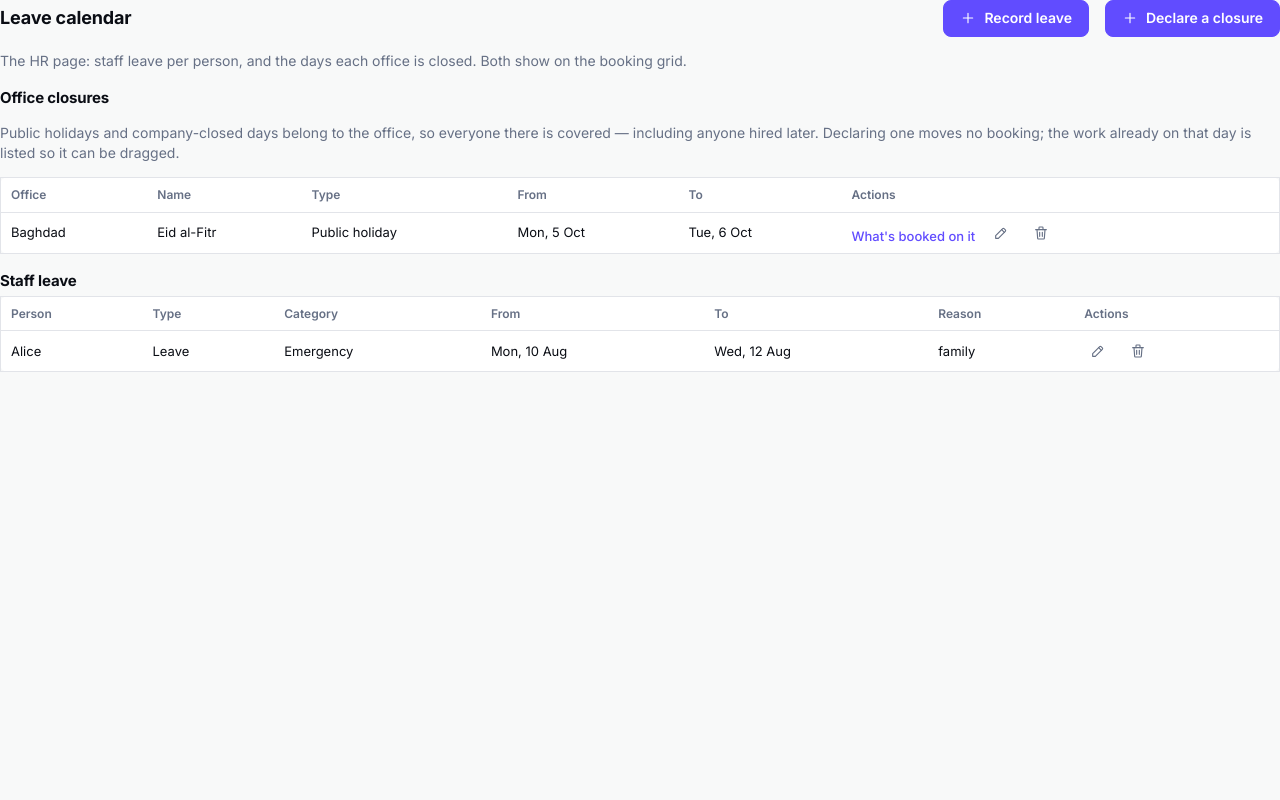
Test: LeavePage — office closures (ADR-0079) › refuses a closure with no name
This screenshot has width=1280, height=800.
Click the button with test id "closure-add" at point(1192, 18), box [1105,0,1279,37]
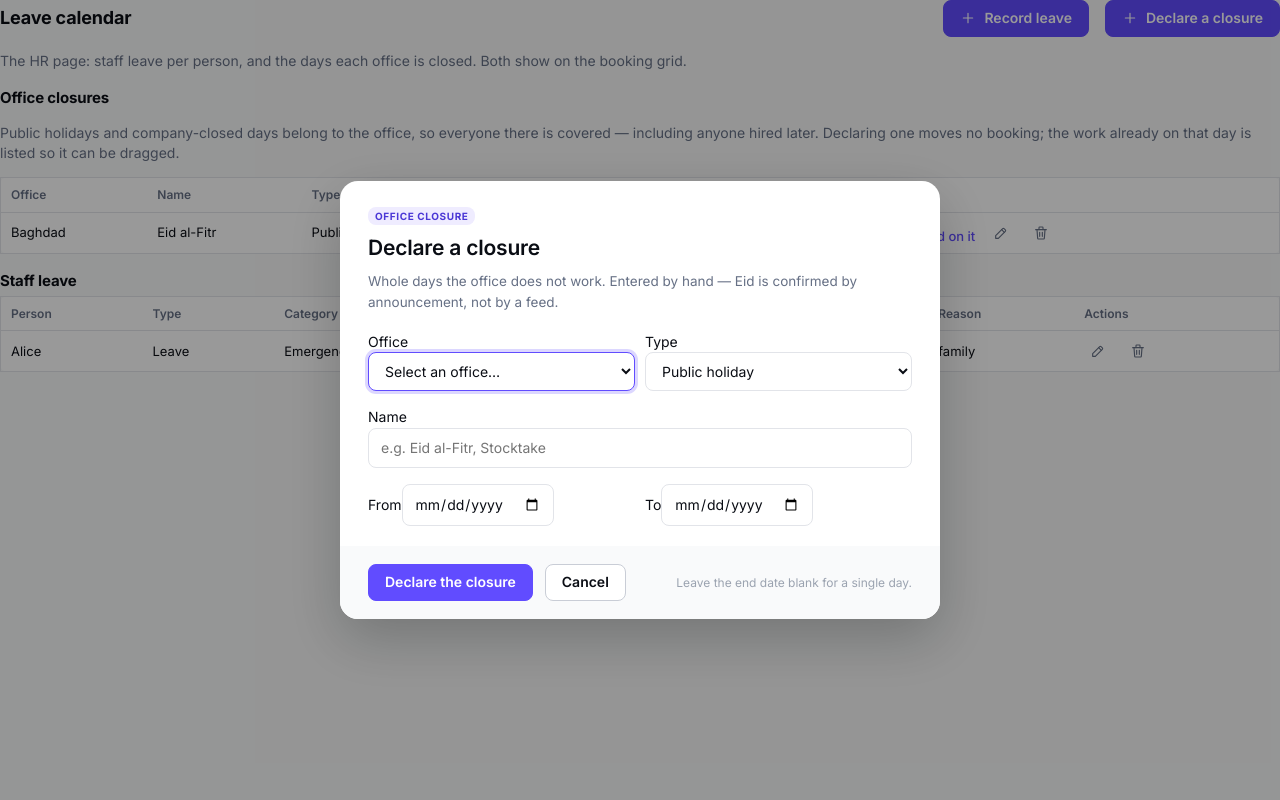
Select "Baghdad" in the dropdown with test id "closure-office" at point(502, 372), box [368,352,635,391]
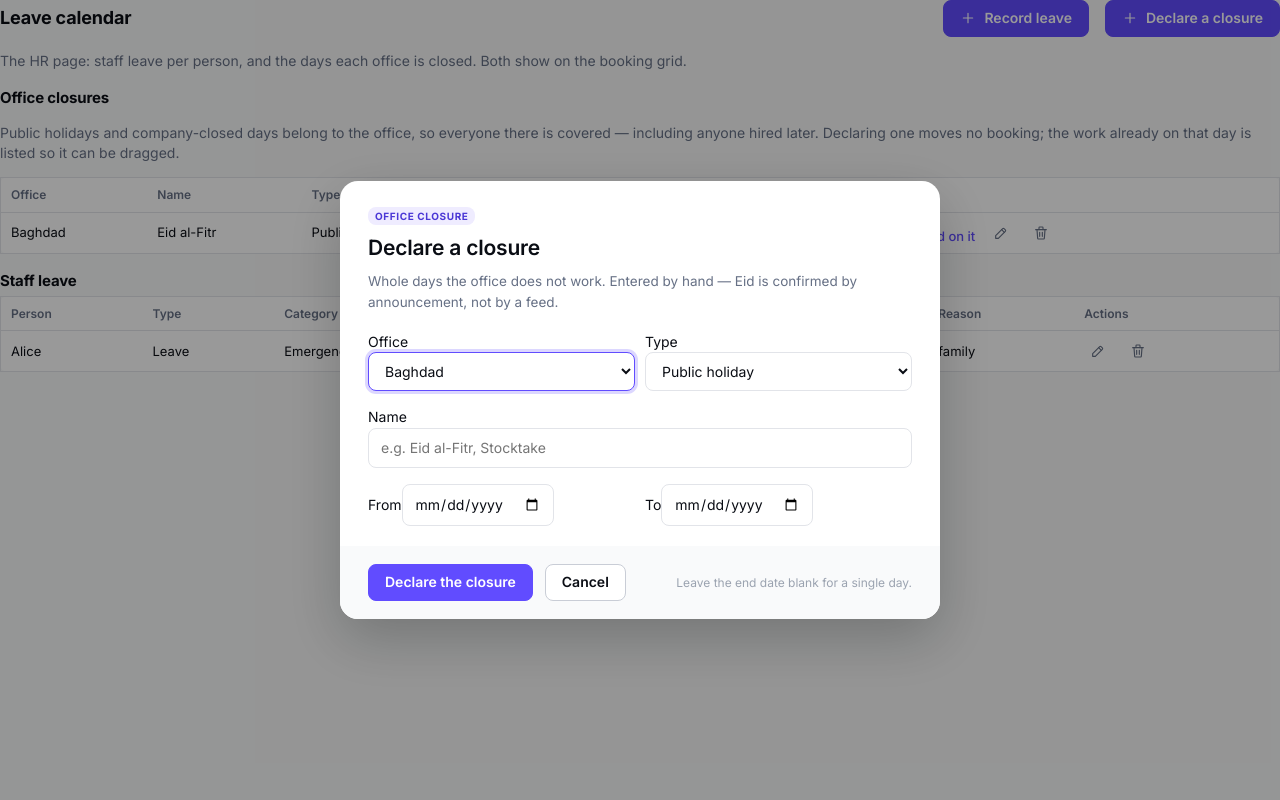
Type "2026-11-01" into the date field with test id "closure-start" at point(478, 505), box [402,484,554,526]
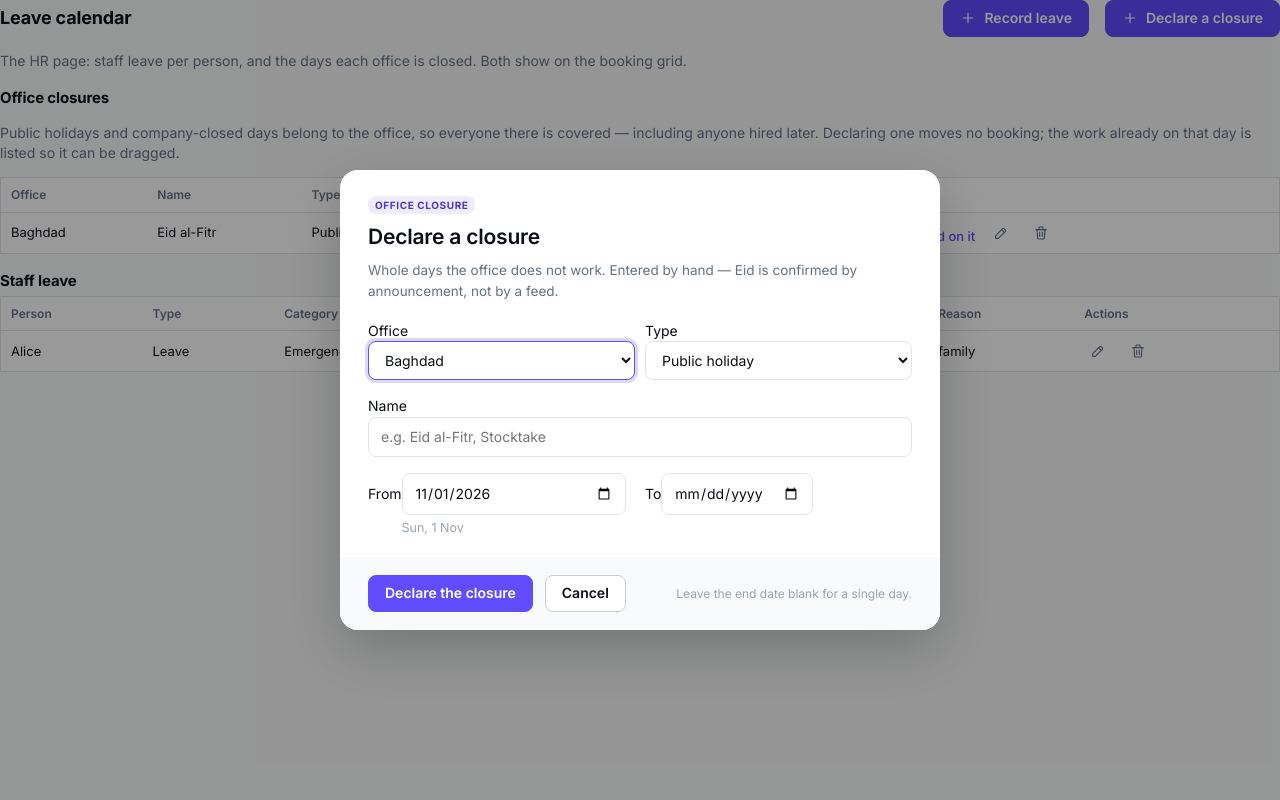
Submit the form, box [340,170,940,630]
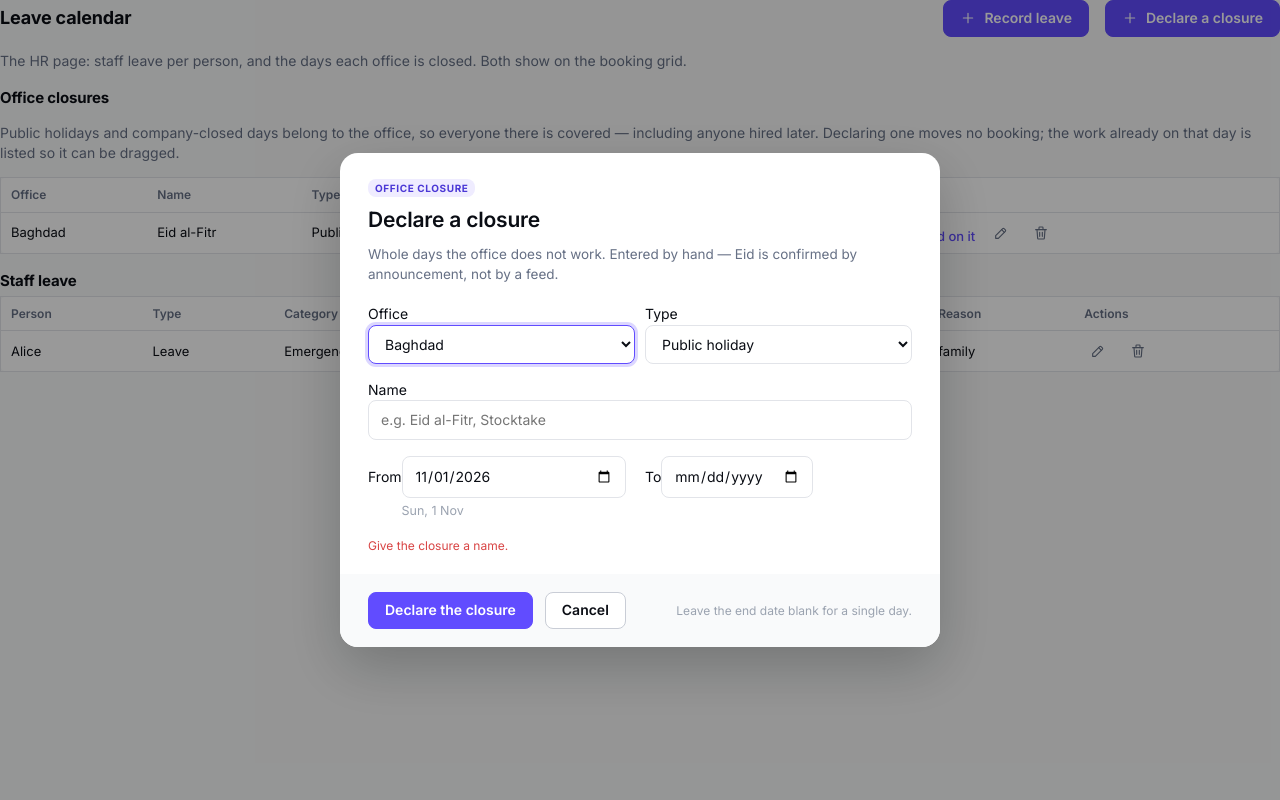
Expected: the message "Give the closure a name." is shown, [368,538,508,552]
